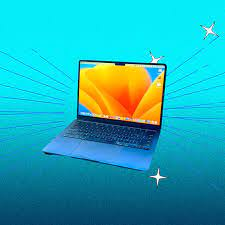laptop: (40, 54, 171, 176)
